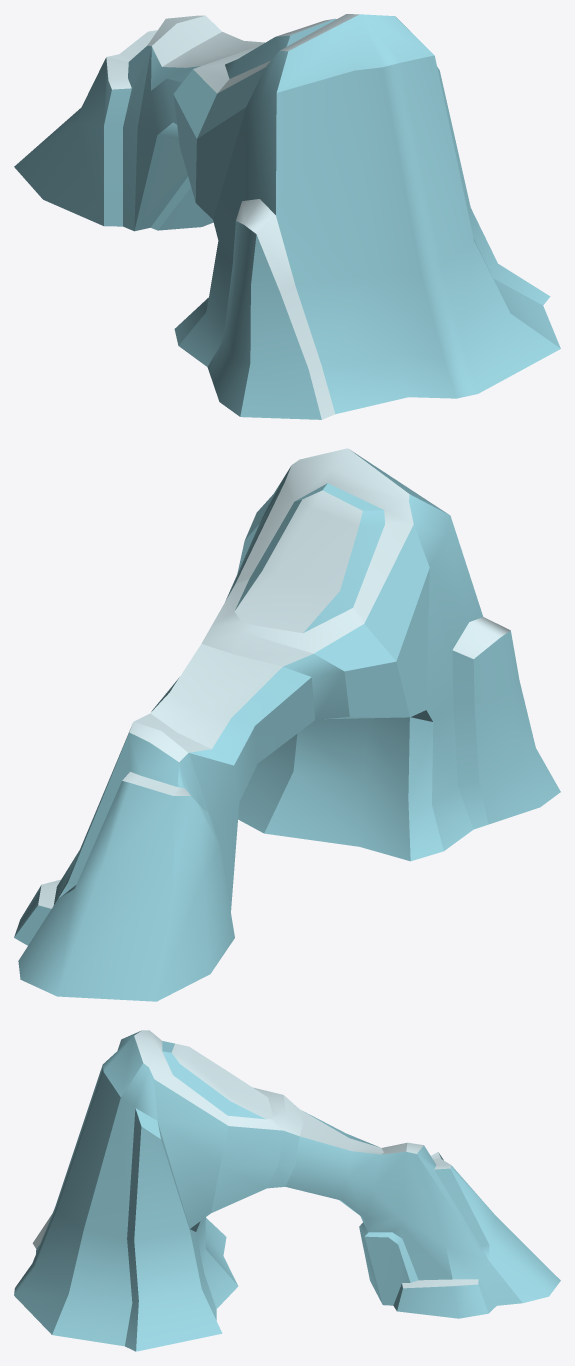
File: mdl_iceCliff05.fbx
3 views of the same model, one above another, from view 1: azimuth 30°, elevation 25°; view 2: azimuth 150°, elevation 25°; view 3: azimuth 270°, elevation 25° (orthographic). The views are drawn at different scales.
Visible parts, largest first — view 1: mdl_iceCliff07; view 2: mdl_iceCliff07; view 3: mdl_iceCliff07.
Part boxes in pixels (box(x1,y1,x2,y2)): mdl_iceCliff07: box(14, 14, 560, 419); mdl_iceCliff07: box(14, 448, 560, 1001); mdl_iceCliff07: box(14, 1030, 560, 1351).
Size of the model in its own units: 274 by 242 by 487.
1 material, 1 textured.
